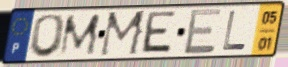E: (182, 7, 224, 57), (138, 9, 178, 56)
L: (221, 10, 248, 52)
M: (97, 9, 149, 59), (57, 12, 103, 58)
O: (27, 13, 70, 60)
